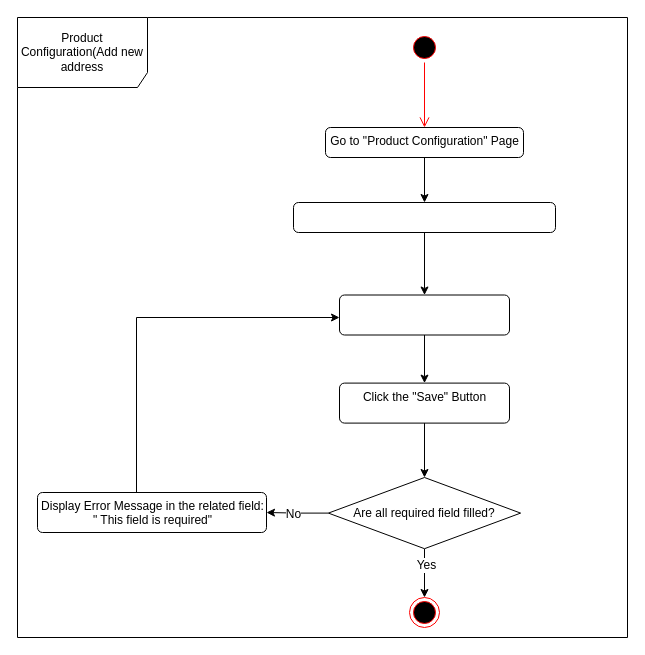
Image size: 645x655. Some labels were removed from this diagram. The box of each missing label's shape, as (x1, y1, x2, y2) in pixels:
Click "Add New Address" Button: (292, 202, 556, 232)
Fill the Address Informations in Popup: (338, 294, 510, 335)
